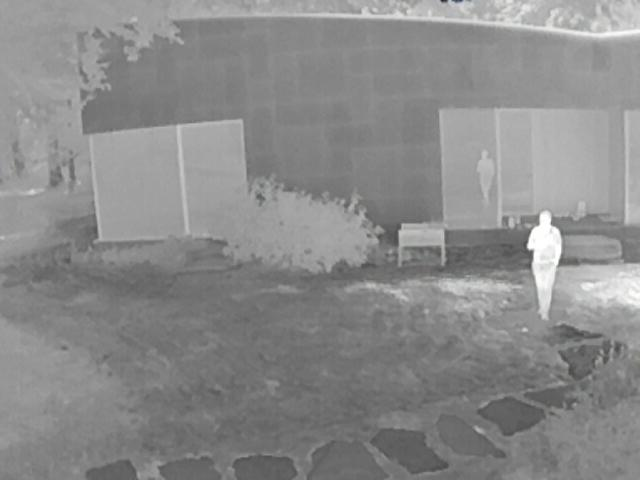person: (526, 210, 562, 326), (476, 150, 497, 206)
